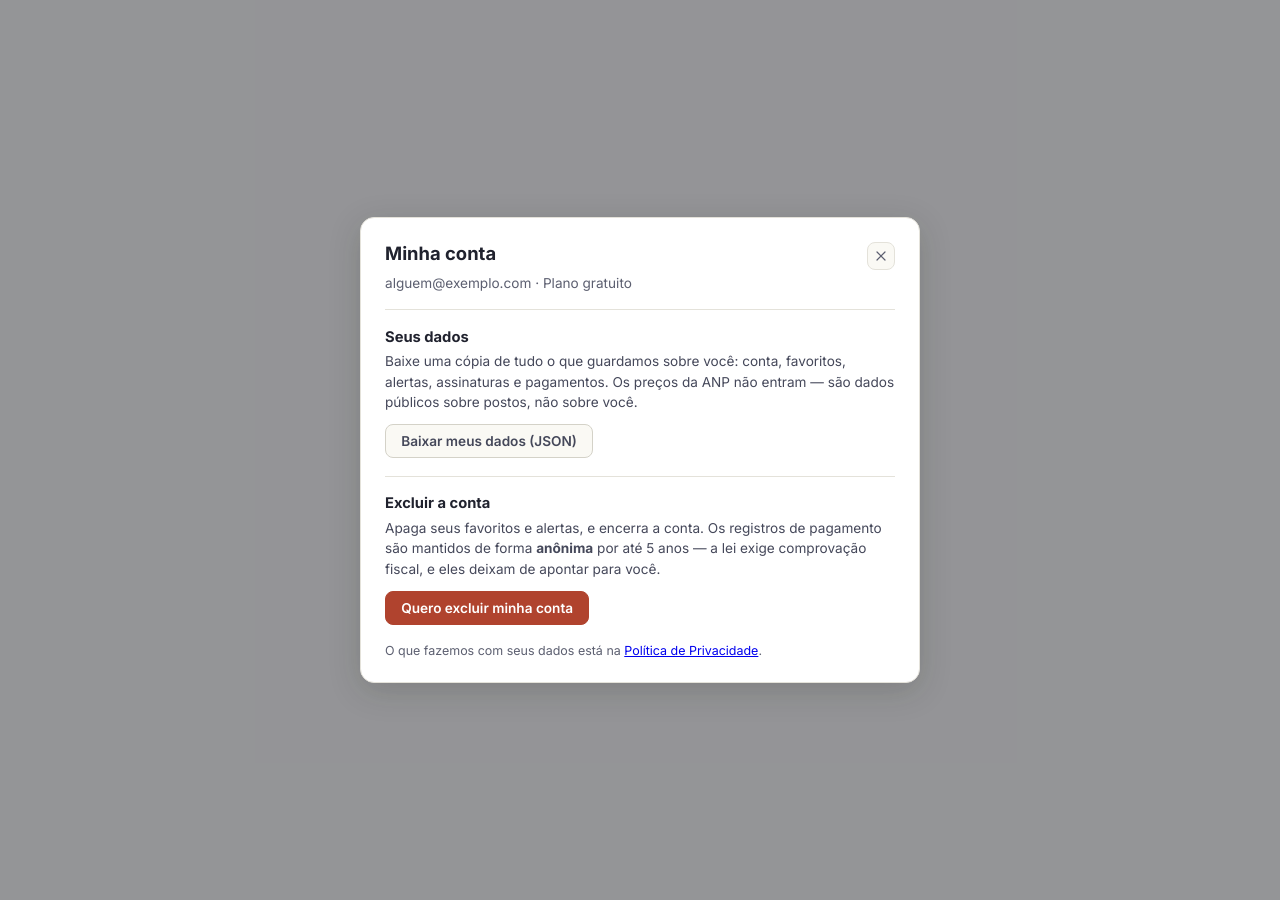
Test: exportar dados › falha de exportação não derruba a tela — a conta segue intacta
The width and height of the screenshot is (1280, 900).
Click the button "Baixar meus dados (JSON)". click: (489, 441)
box: [385,424,593,458]
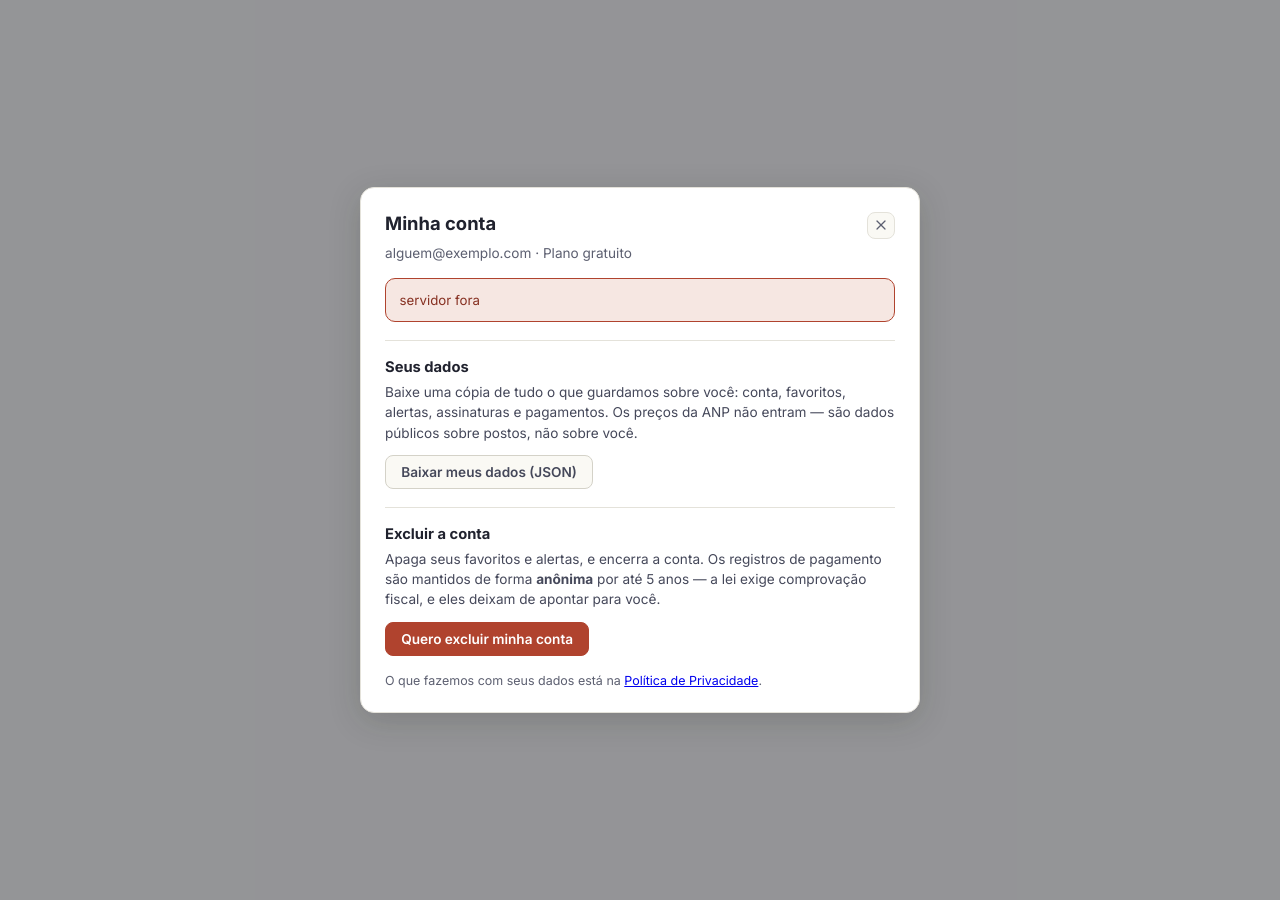
Expected: the button "Quero excluir minha conta" is shown, [385,622,589,656]
Expected: the message reads "servidor fora", [400,292,480,308]
